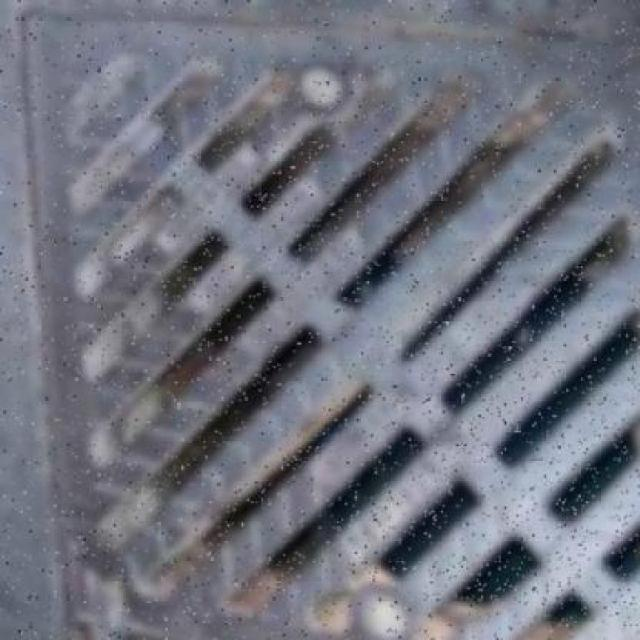Manhole: (16, 3, 639, 634)
